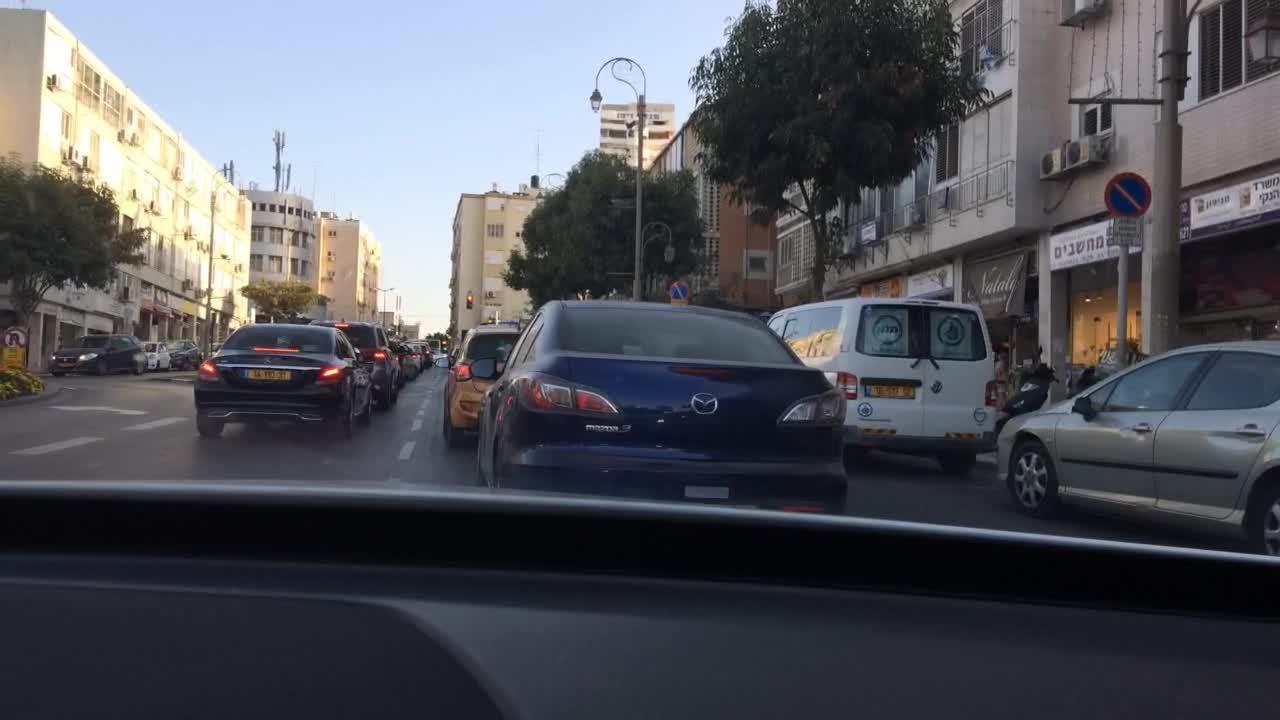Mazda: (687, 387, 726, 421)
Volkswagen: (929, 378, 947, 396)
